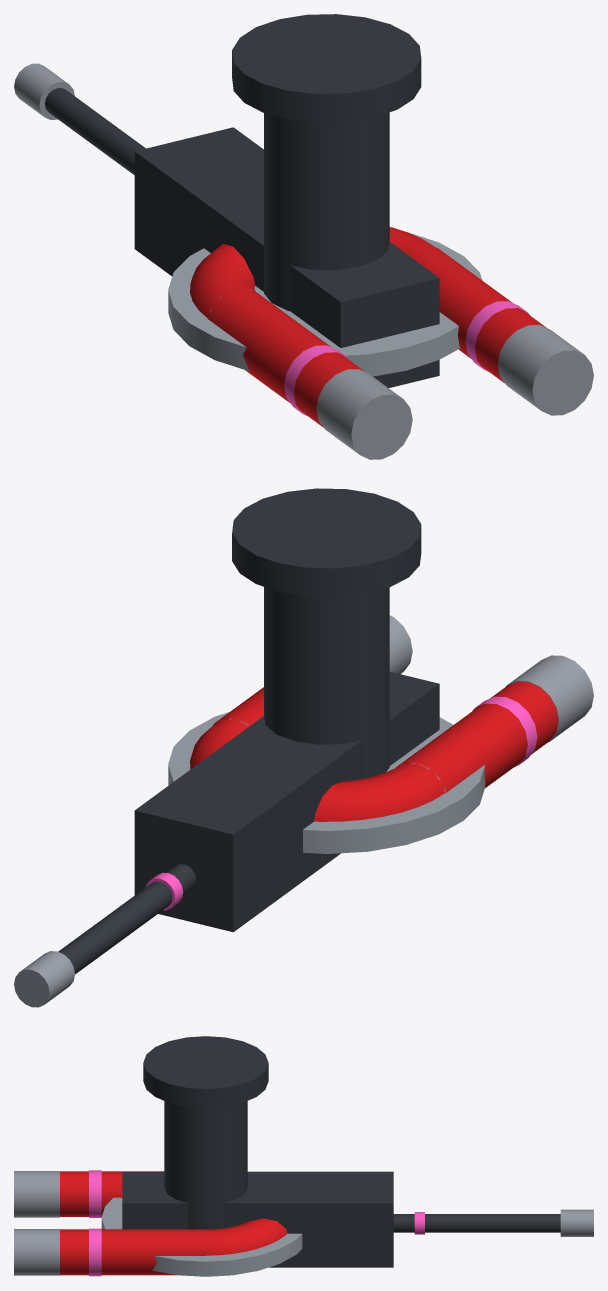
The model's file is magnet.obj.
3 renders of one model, top to bottom at view 1: azimuth 30°, elevation 25°; view 2: azimuth 150°, elevation 25°; view 3: azimuth 270°, elevation 25°, orthographic. The views are drawn at different scales.
Visible parts, largest first — view 1: turret, stand, barrel; view 2: turret, stand, barrel; view 3: turret, stand, barrel.
Boxes of the visible parts, x1,y1,x2,y2 form: turret: (134,127,593,459); stand: (168,14,481,376); barrel: (14,63,145,174); turret: (134,615,593,932); stand: (168,488,485,853); barrel: (14,864,196,1007); turret: (14,1170,393,1276); stand: (101,1036,302,1276); barrel: (393,1209,593,1236).
Bounding box in the file's own units: 1 × 1 × 2.78.
